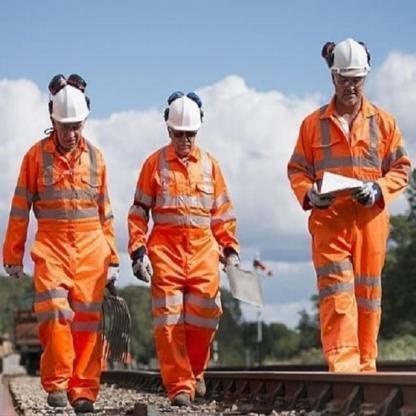vest: (287, 98, 402, 290), (10, 137, 115, 269), (127, 139, 231, 241)
white: (161, 93, 208, 136), (330, 36, 375, 80), (46, 84, 92, 127)
